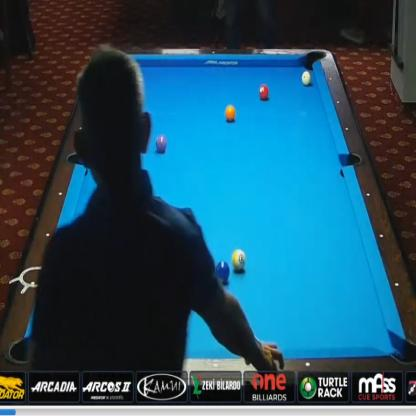Ball: (215, 261, 230, 283), (232, 249, 246, 272), (155, 135, 167, 153), (224, 105, 236, 122), (301, 70, 312, 87), (258, 84, 269, 100)
